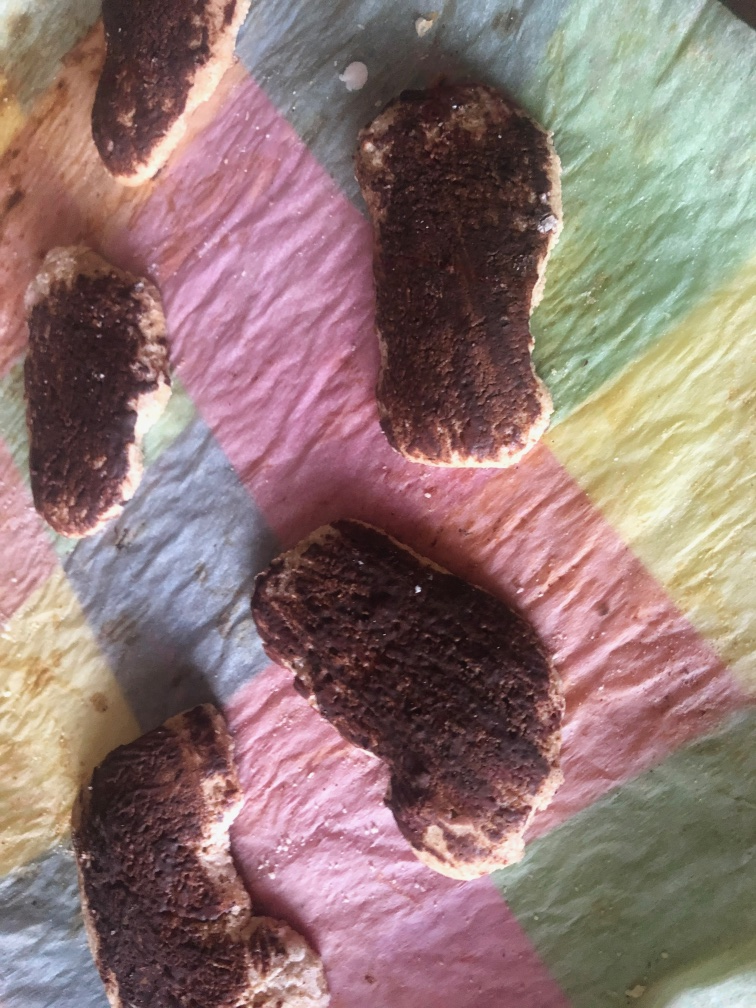weird #1: (245, 511, 573, 892), (64, 703, 324, 1008), (361, 87, 553, 472), (17, 241, 170, 552), (84, 1, 249, 192)
